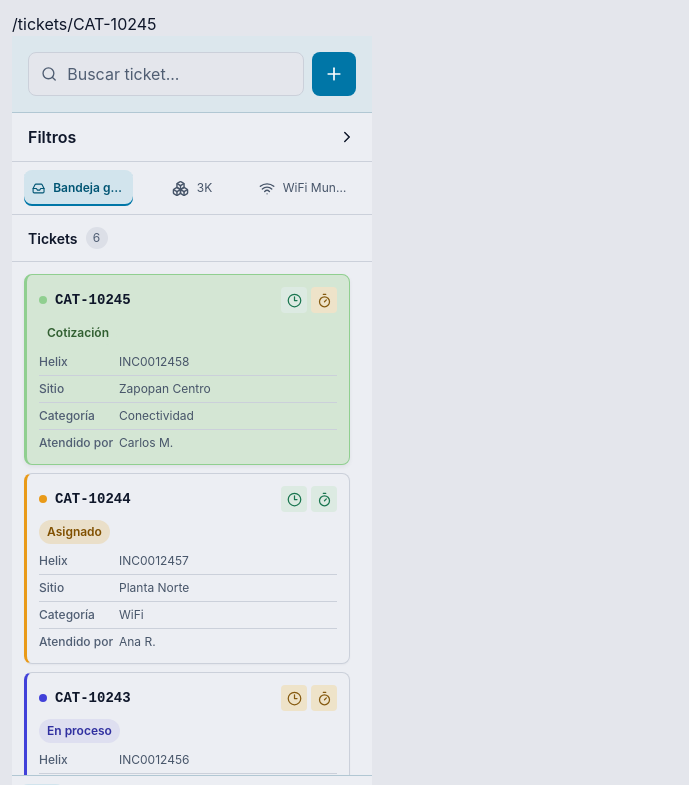
Test case: Sidebar › keeps filters applied when closing the panel and restores focus
The image size is (689, 785).
Click the button "Filtros" at (52, 137), box [12, 113, 372, 161]
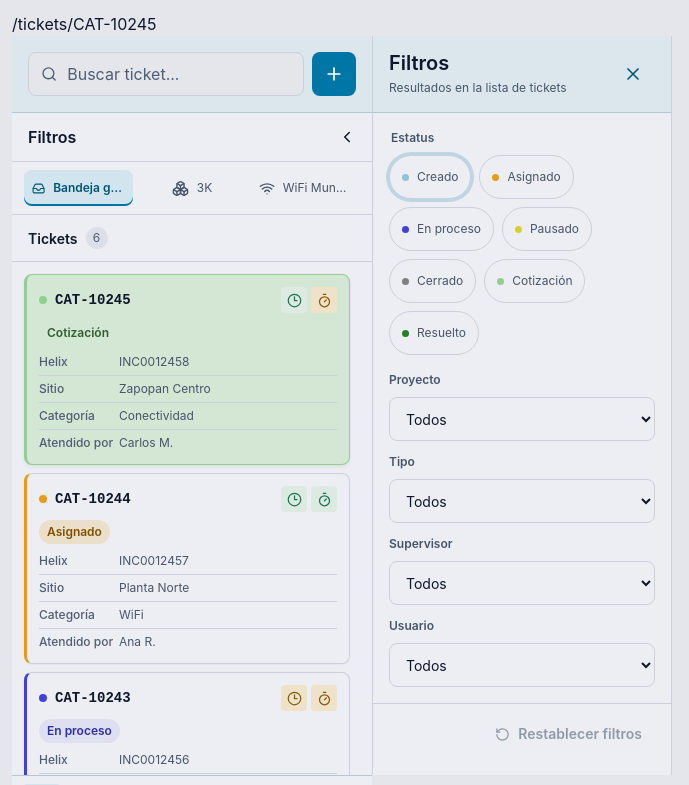
Click the button "Cotización" at (535, 281), box [484, 259, 586, 303]
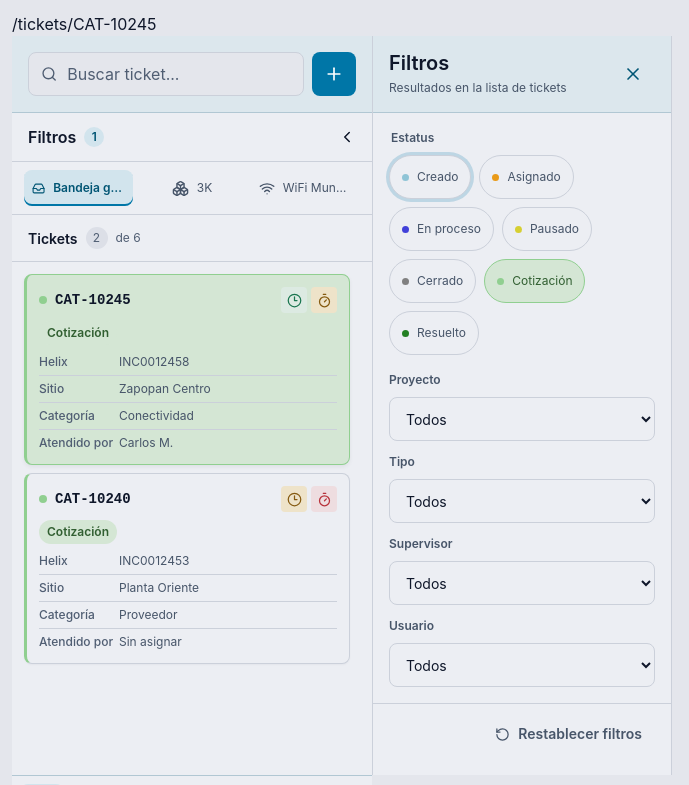
Expected: the link "CAT-10245" is shown, [24, 274, 350, 465]
Result: the link "CAT-10244" is gone
Press Escape in the element named "Filtros de tickets", box [372, 36, 672, 775]
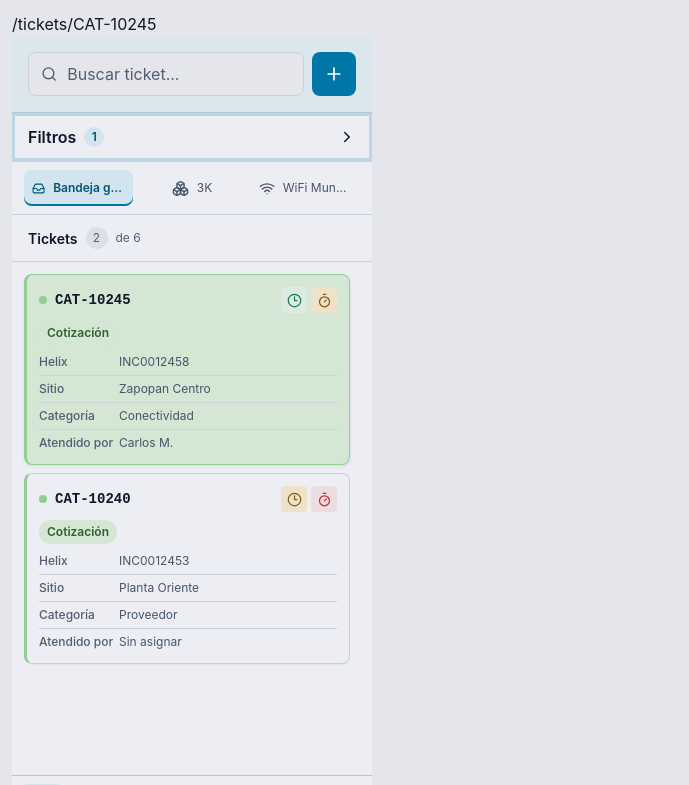
Expected: the link "CAT-10244" is not shown
Result: the button "Filtros 1" is collapsed
Click the button "Filtros 1" at (52, 137), box [12, 113, 372, 161]
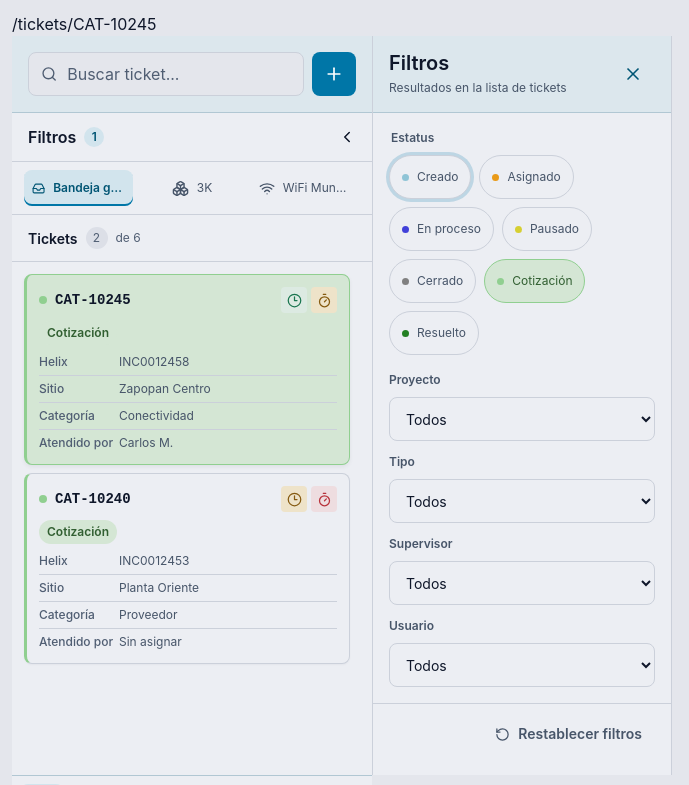
Result: the button "Cotización" is pressed at [484, 259, 586, 303]
Click the button "Restablecer filtros" at (569, 734), box [482, 712, 655, 756]
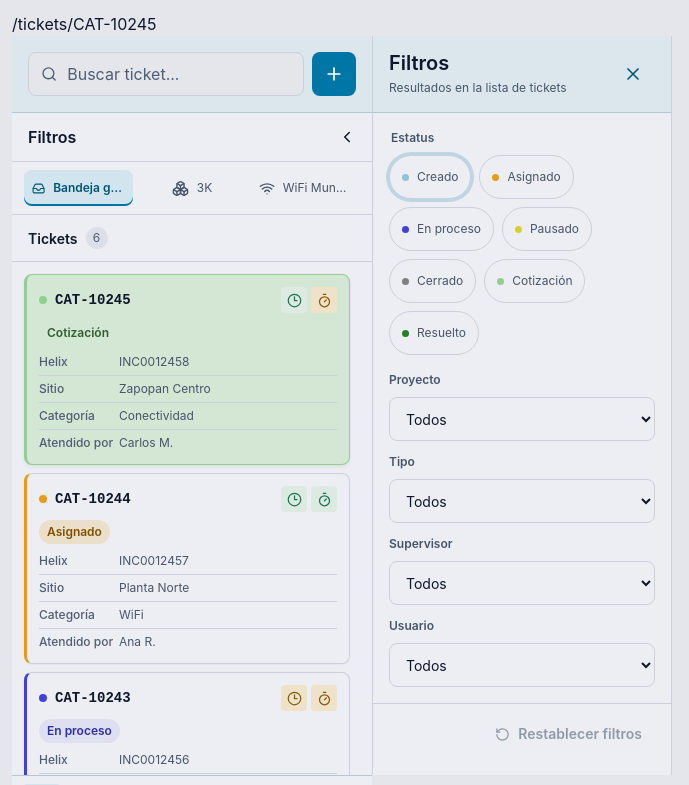
Result: the element named "Filtros de tickets" is shown at [372, 36, 672, 775]
Result: the link "CAT-10244" is shown at [24, 473, 350, 664]
